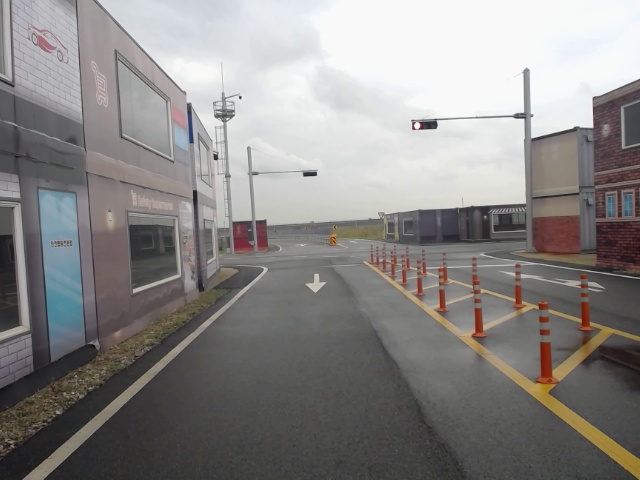red_3: (412, 120, 438, 131)
